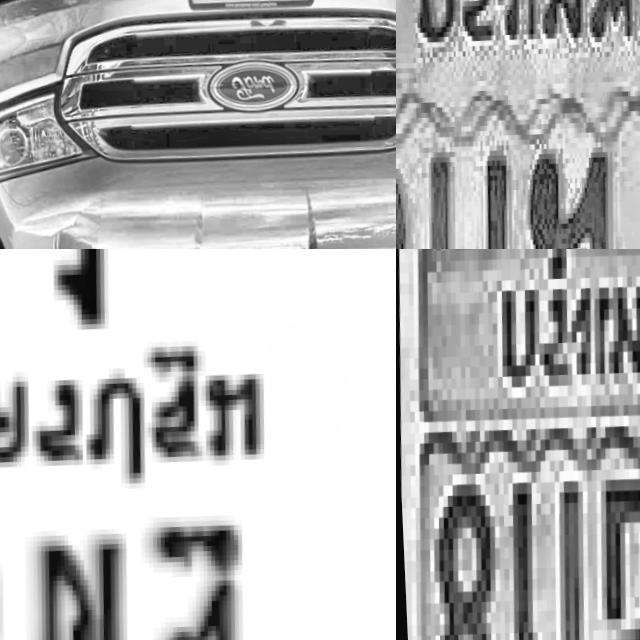license-plate: (0, 249, 396, 640), (396, 249, 640, 640), (396, 0, 640, 249), (181, 0, 315, 20)
